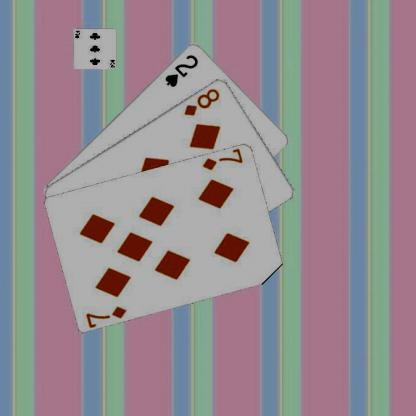2S: (162, 51, 200, 88)
7D: (83, 303, 128, 327), (200, 147, 244, 171)
8D: (181, 85, 221, 117)
